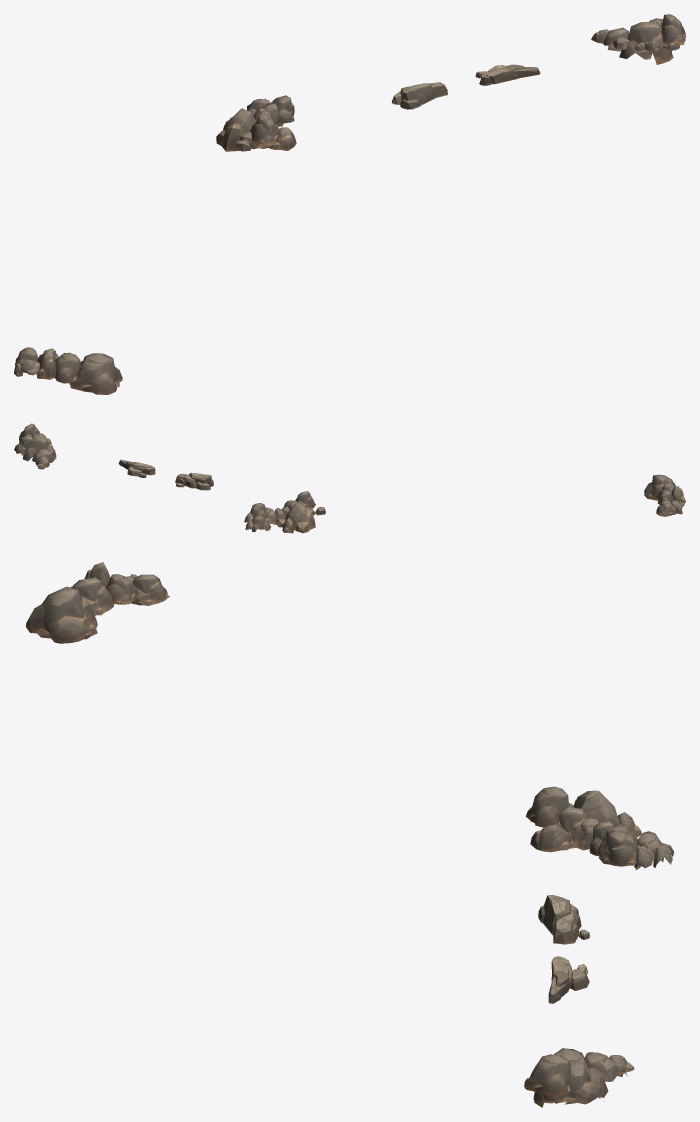
The model's file is pref_sm_beach_bk_pointmol_downrock_lv1.fbx.
3 views of the same model, one above another, from view 1: azimuth 30°, elevation 25°; view 2: azimuth 150°, elevation 25°; view 3: azimuth 270°, elevation 25° (orthographic). The views are drawn at different scales.
Parts seen in each view (by area): view 1: pref_sm_beach_bk_pointmol_downrock_lv1; view 2: pref_sm_beach_bk_pointmol_downrock_lv1; view 3: pref_sm_beach_bk_pointmol_downrock_lv1.
Part boxes in pixels (x1,y1,x2,y2): pref_sm_beach_bk_pointmol_downrock_lv1: (14,14,685,394); pref_sm_beach_bk_pointmol_downrock_lv1: (14,423,685,533); pref_sm_beach_bk_pointmol_downrock_lv1: (25,562,673,1107).
Bounding box in the file's own units: 97.69 × 5.92 × 49.29.
